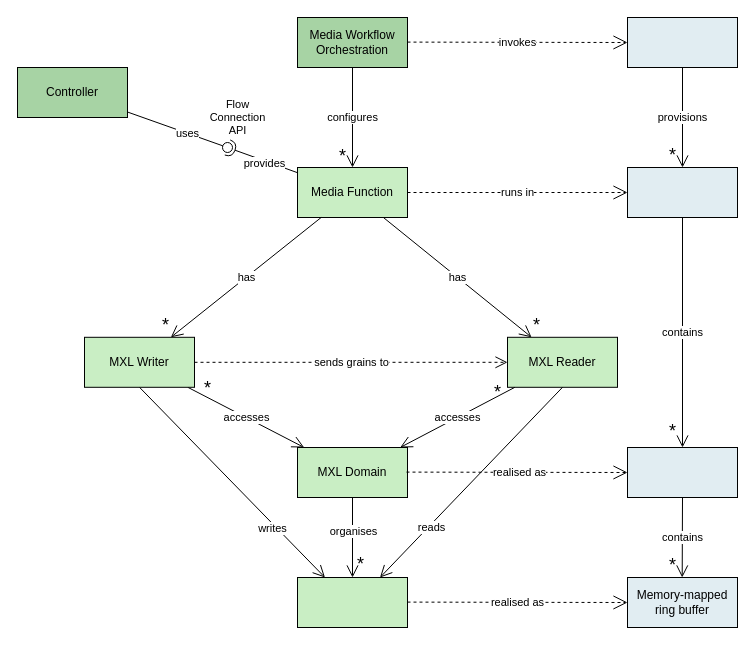
This 755x645 diagram has some shape labels left out. The centre of each missing label's shape, as x and y in pixels:
"Container Orchestration" belongs at [682,42].
"Directory" belongs at [682,472].
"MXL Flow" belongs at [352,602].
"Software Container" belongs at [682,192].
